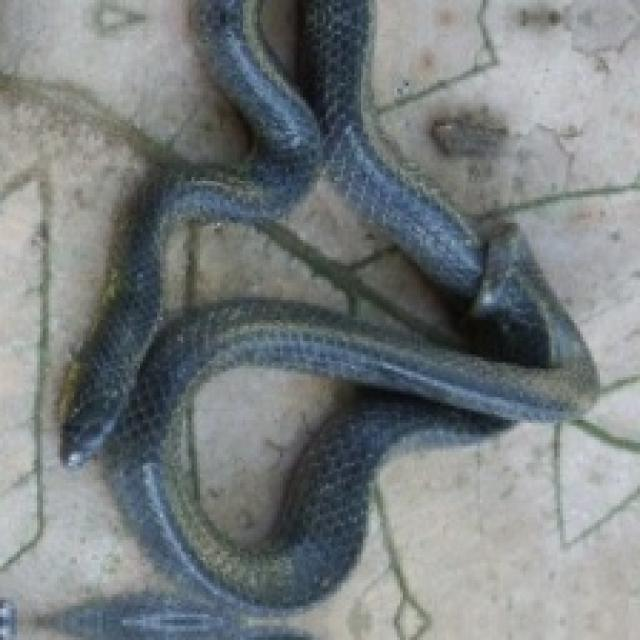gunthers philippine shrub snake: (63, 0, 597, 606)
